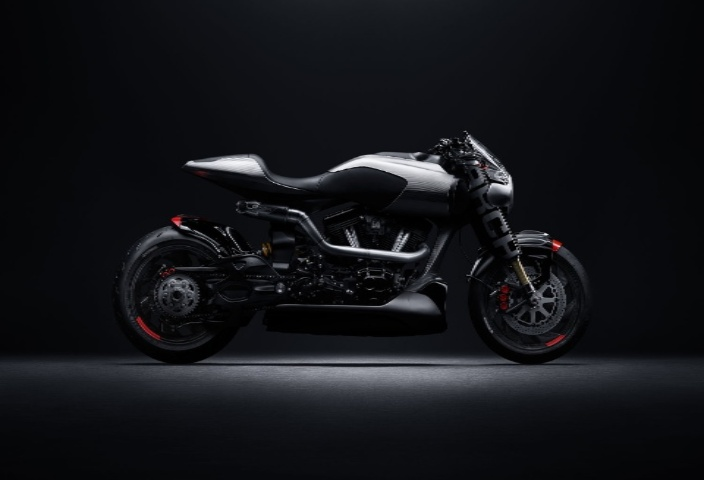motorcycle: (122, 73, 592, 374)
